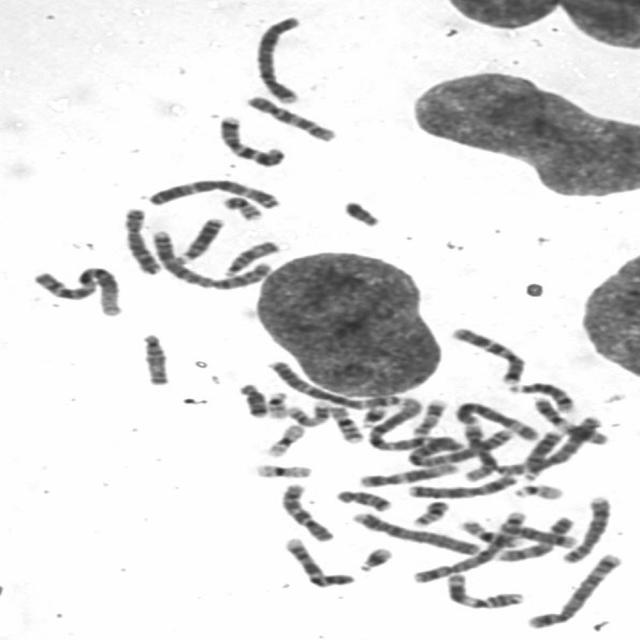A1: (30, 264, 126, 318), (362, 393, 434, 452)
A2: (147, 228, 275, 292), (402, 426, 516, 468)
A3: (266, 358, 398, 410), (142, 177, 282, 210)
B4: (349, 510, 481, 556), (250, 14, 304, 105)
B5: (408, 509, 531, 585), (524, 551, 624, 630)
C10: (241, 92, 338, 144), (278, 480, 336, 542)
C11: (528, 394, 610, 446), (443, 572, 525, 610)
C12: (354, 461, 460, 488), (461, 422, 500, 483)
C6: (516, 414, 604, 480), (451, 399, 540, 442)
C7: (447, 324, 527, 386), (212, 112, 286, 168)
C8: (558, 494, 614, 564), (119, 205, 162, 276)
C9: (280, 535, 356, 589), (493, 515, 574, 563)
D13: (173, 215, 226, 263), (521, 428, 564, 481)
D14: (506, 380, 576, 413), (498, 524, 581, 549)
D15: (218, 238, 280, 278), (136, 330, 172, 386)
E16: (455, 518, 523, 547), (325, 404, 365, 445)
E17: (409, 398, 448, 437), (282, 398, 331, 428)
E18: (332, 487, 392, 513), (234, 381, 269, 418)
F19: (263, 421, 307, 458), (250, 461, 314, 479)
F20: (219, 194, 264, 221), (408, 499, 451, 527)
G21: (354, 544, 394, 572), (358, 404, 388, 429)
G22: (510, 482, 565, 500), (264, 389, 291, 420)
X: (402, 472, 520, 500)
Y: (340, 198, 382, 229)
